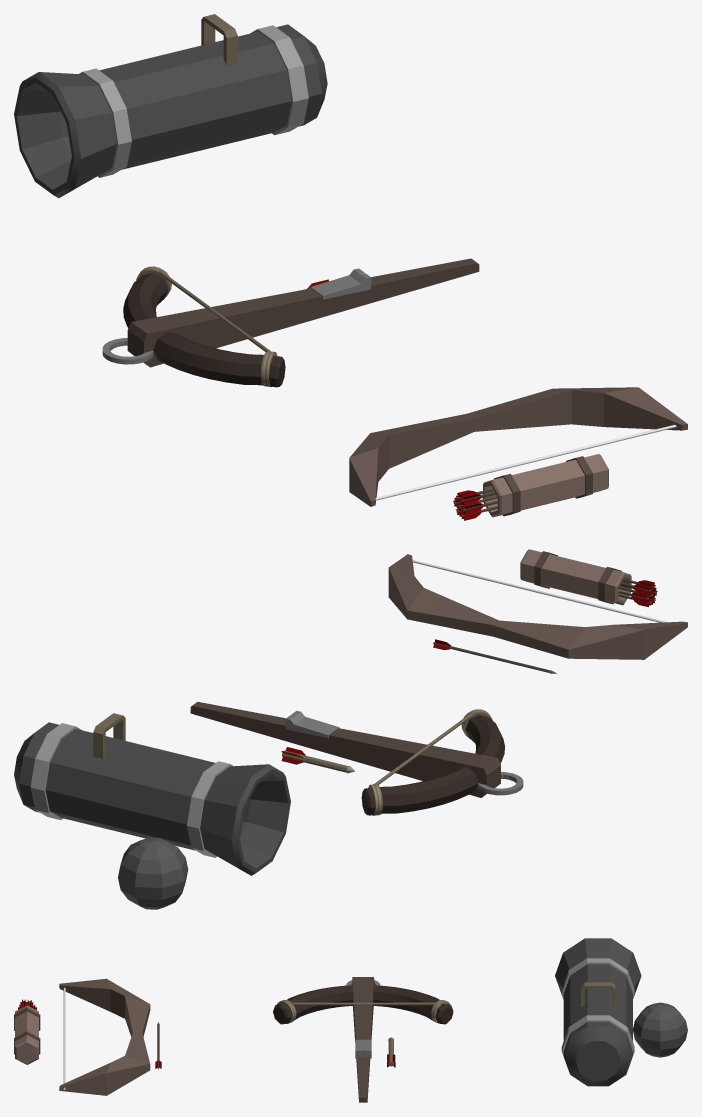
The model's file is Armi.fbx.
The picture shows the model from 3 angles, top to bottom: view 1: azimuth 30°, elevation 25°; view 2: azimuth 150°, elevation 25°; view 3: azimuth 270°, elevation 25°; orthographic projection. The views are drawn at different scales.
Parts seen in each view (by area): view 1: Cannone, Balestra, Arco, Porta_Frecce; view 2: Cannone, Balestra, Arco, Palla_di_Cannone, Porta_Frecce, Dardo; view 3: Cannone, Balestra, Arco, Palla_di_Cannone, Porta_Frecce.
Boxes of the visible parts, bbox=[...] form: Cannone: bbox=[14, 14, 327, 198]; Balestra: bbox=[102, 258, 479, 387]; Arco: bbox=[349, 387, 687, 506]; Porta_Frecce: bbox=[483, 454, 608, 517]; Cannone: bbox=[14, 713, 290, 875]; Balestra: bbox=[190, 702, 523, 815]; Arco: bbox=[388, 554, 687, 659]; Palla_di_Cannone: bbox=[118, 837, 188, 909]; Porta_Frecce: bbox=[520, 549, 631, 605]; Dardo: bbox=[281, 747, 354, 773]; Cannone: bbox=[555, 938, 641, 1086]; Balestra: bbox=[273, 977, 453, 1102]; Arco: bbox=[59, 978, 150, 1095]; Palla_di_Cannone: bbox=[633, 1002, 687, 1057]; Porta_Frecce: bbox=[14, 1005, 40, 1064].
Size of the model in its own units: 5.38 by 2.07 by 12.35.
